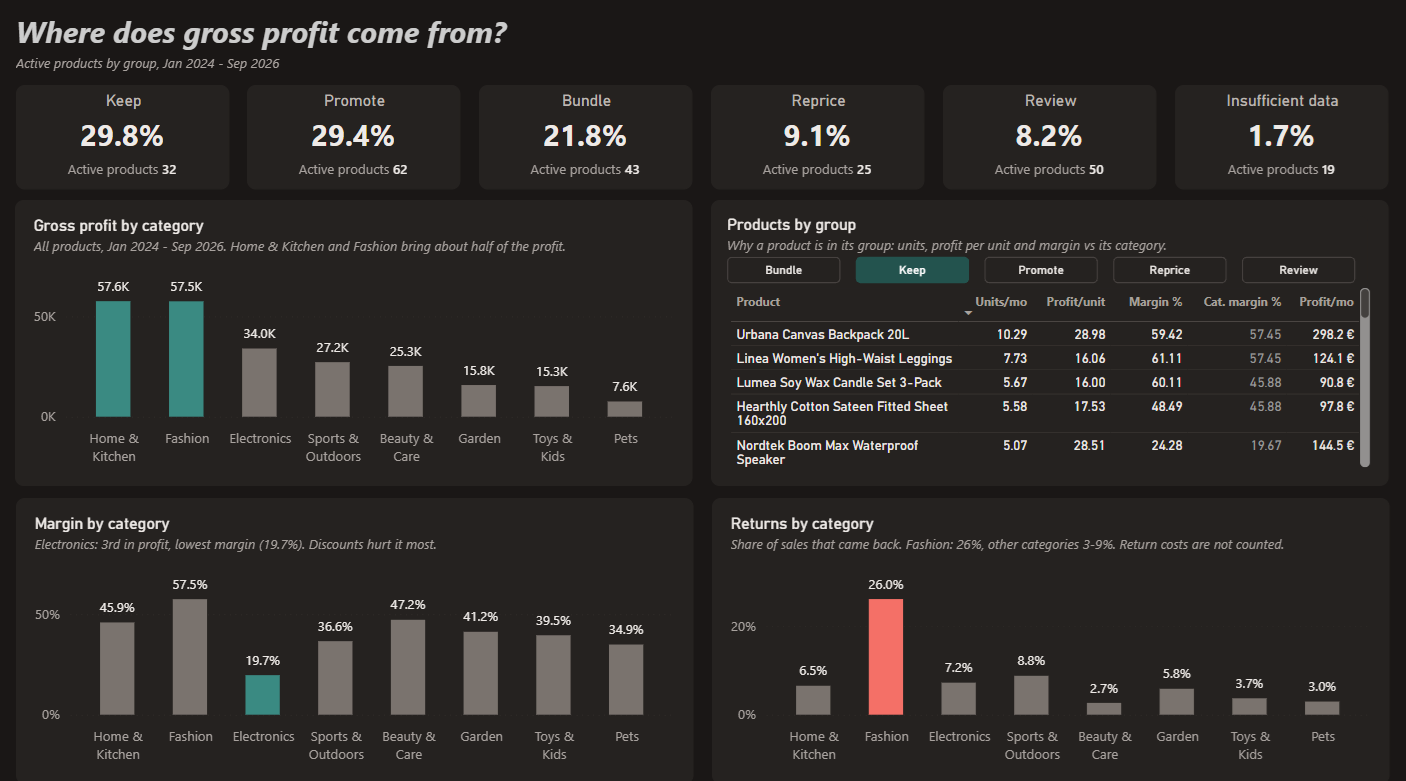

Layout of this report page (visuals, bound fields, positions):
{"tool":"powerbi","page":{"name":"Products","canvas":[1280,720],"ordinal":1},"visuals":[{"type":"cardVisual","title":"Keep","fields":{"Data":["analytics product_performance.Profit share","analytics product_performance.Active products"]},"box":[24,67,296,120],"z":0},{"type":"textbox","box":[0,0,820,83.3],"z":1000},{"type":"textbox","box":[0,36,410,46.7],"z":2000},{"type":"columnChart","title":"Gross profit by category","fields":{"Category":["analytics order_items_enriched.category"],"Y":["analytics order_items_enriched.Gross profit (items)"]},"box":[24.4,196.7,606.7,257],"z":3000},{"type":"columnChart","title":"Margin by category","fields":{"Category":["analytics order_items_enriched.category"],"Y":["analytics order_items_enriched.Margin (items)"]},"box":[24.4,463,607.8,257],"z":4000},{"type":"cardVisual","title":"Promote","fields":{"Data":["analytics product_performance.Profit share","analytics product_performance.Active products"]},"box":[336,66.7,296,120],"z":6000},{"type":"cardVisual","title":"Reprice","fields":{"Data":["analytics product_performance.Profit share","analytics product_performance.Active products"]},"box":[648,66.7,296,120],"z":7000},{"type":"tableEx","title":"Products by group","fields":{"Values":["analytics product_performance.product_name","analytics product_performance.category","analytics product_performance.Group","analytics product_performance.profit_per_month"]},"box":[647,266.7,607.8,453.3],"z":7500,"group":"g1"},{"type":"cardVisual","title":"Review","fields":{"Data":["analytics product_performance.Profit share","analytics product_performance.Active products"]},"box":[960,66.7,296,120],"z":8000},{"type":"advancedSlicerVisual","title":"Products by group","fields":{"Values":["analytics product_performance.Group"]},"box":[646.7,196.7,607.8,70],"z":12000,"group":"g1"},{"type":"group","id":"g1","title":"Group 1","box":[646.7,196.7,608.1,523.3],"z":12001}]}

Visuals, with their boxes in screenshot pixels (x1, y1, x2, y2), scaled from the page's 1280x720 canvas onto the 1406x781 screenshot:
"Keep" cardVisual: 26, 73, 352, 203
textbox: 0, 0, 901, 90
textbox: 0, 39, 450, 90
"Gross profit by category" columnChart: 27, 213, 693, 492
"Margin by category" columnChart: 27, 502, 694, 780
"Promote" cardVisual: 369, 72, 694, 203
"Reprice" cardVisual: 712, 72, 1037, 203
"Products by group" tableEx: 711, 289, 1378, 780
"Review" cardVisual: 1054, 72, 1380, 203
"Products by group" advancedSlicerVisual: 710, 213, 1378, 289
"Group 1" group: 710, 213, 1378, 780
